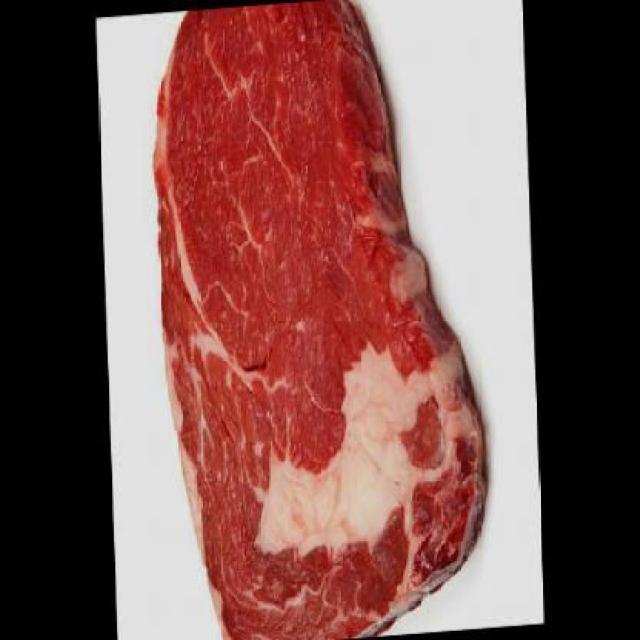beaf: (146, 0, 495, 638)
